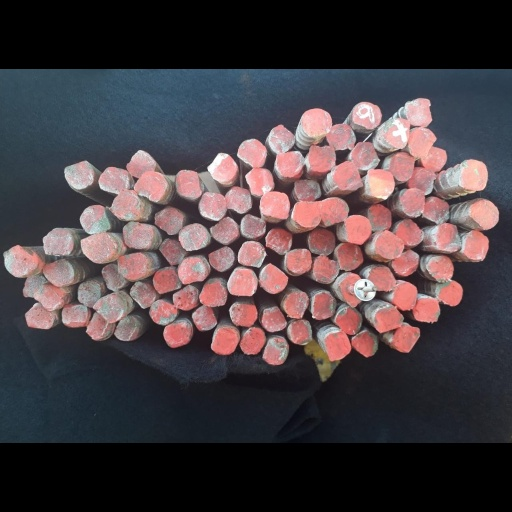dipstick: (3, 243, 38, 278), (80, 233, 116, 263), (98, 166, 135, 195), (133, 170, 167, 201), (365, 166, 395, 201), (458, 157, 488, 191), (110, 189, 141, 221), (42, 225, 73, 256), (469, 199, 499, 230), (332, 161, 363, 191), (122, 219, 153, 249), (85, 310, 115, 341), (178, 222, 210, 251), (79, 205, 111, 234), (432, 222, 462, 252), (258, 264, 288, 294), (154, 205, 184, 235), (207, 152, 238, 181), (117, 252, 149, 280), (375, 229, 404, 259), (302, 108, 332, 137), (237, 138, 267, 167), (227, 266, 257, 295), (174, 169, 203, 199), (152, 266, 182, 295), (64, 160, 94, 189), (177, 256, 208, 284), (384, 117, 410, 150), (434, 277, 463, 306), (374, 305, 404, 333), (407, 128, 437, 156), (345, 215, 373, 245), (326, 123, 356, 151), (268, 125, 296, 155), (93, 294, 123, 322), (463, 231, 490, 262), (395, 217, 424, 245), (353, 101, 382, 129), (352, 141, 380, 170), (320, 198, 349, 226), (307, 227, 335, 256), (224, 185, 252, 214), (210, 217, 239, 245), (127, 148, 156, 176), (43, 259, 72, 287), (425, 255, 455, 282), (324, 331, 351, 361), (259, 191, 289, 218), (276, 151, 306, 178), (199, 190, 226, 220), (34, 285, 64, 312), (422, 196, 450, 224), (336, 242, 364, 270), (391, 326, 420, 353), (391, 249, 420, 276), (351, 328, 378, 357), (245, 169, 274, 196), (261, 337, 288, 366), (340, 273, 363, 307), (335, 307, 363, 334), (308, 144, 335, 172), (191, 303, 218, 331), (130, 281, 157, 309), (406, 97, 432, 126), (239, 326, 265, 355), (393, 281, 418, 311), (413, 296, 440, 323), (368, 266, 396, 292), (211, 327, 237, 355), (159, 237, 185, 265), (408, 166, 433, 195), (291, 201, 320, 226), (401, 187, 425, 217), (265, 228, 292, 254), (261, 305, 287, 332), (199, 281, 226, 307), (173, 284, 199, 311), (149, 299, 176, 325), (313, 255, 338, 283), (390, 151, 414, 180), (312, 291, 336, 320), (287, 319, 313, 345), (284, 292, 309, 319), (207, 246, 234, 271), (113, 316, 140, 341), (163, 323, 191, 347), (368, 203, 391, 232), (61, 305, 90, 328), (25, 307, 54, 330), (421, 146, 447, 171), (237, 242, 264, 266), (286, 248, 311, 273), (294, 179, 321, 202), (239, 214, 266, 237), (230, 303, 257, 326), (22, 275, 49, 298), (77, 281, 100, 305)
